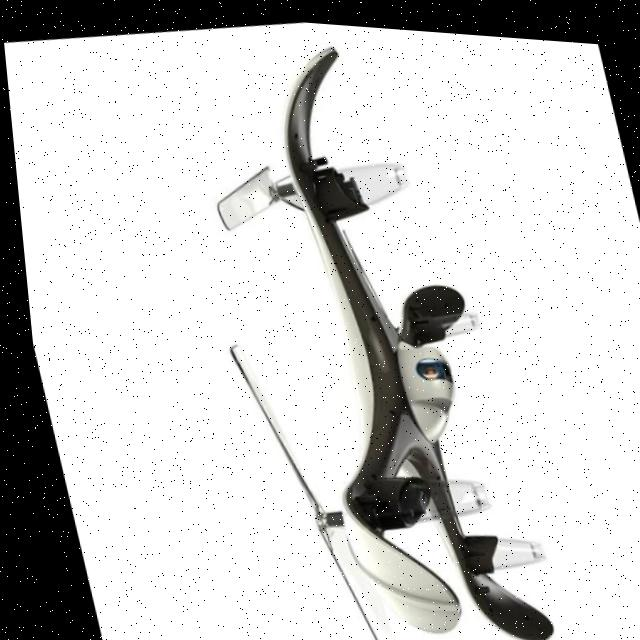drones: (87, 5, 576, 640)
